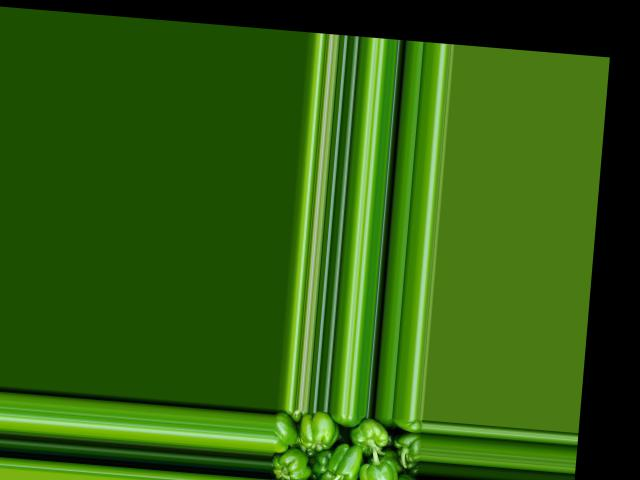bell_pepper: (383, 473, 419, 480)
